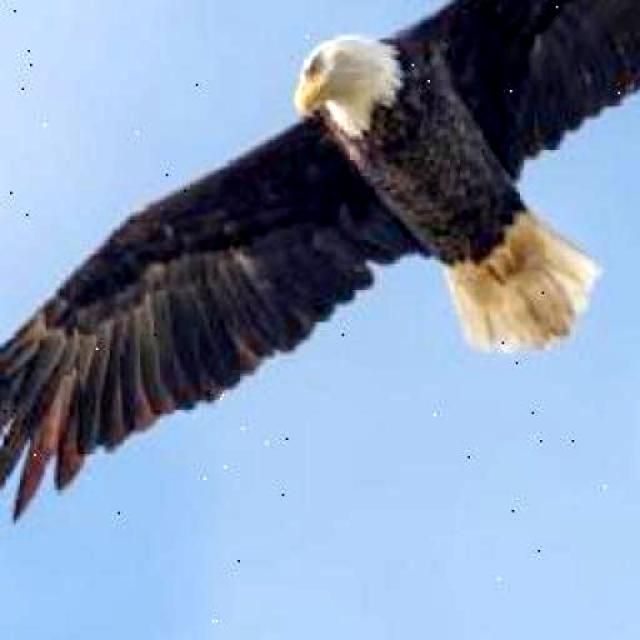airplane: (0, 0, 640, 534)
